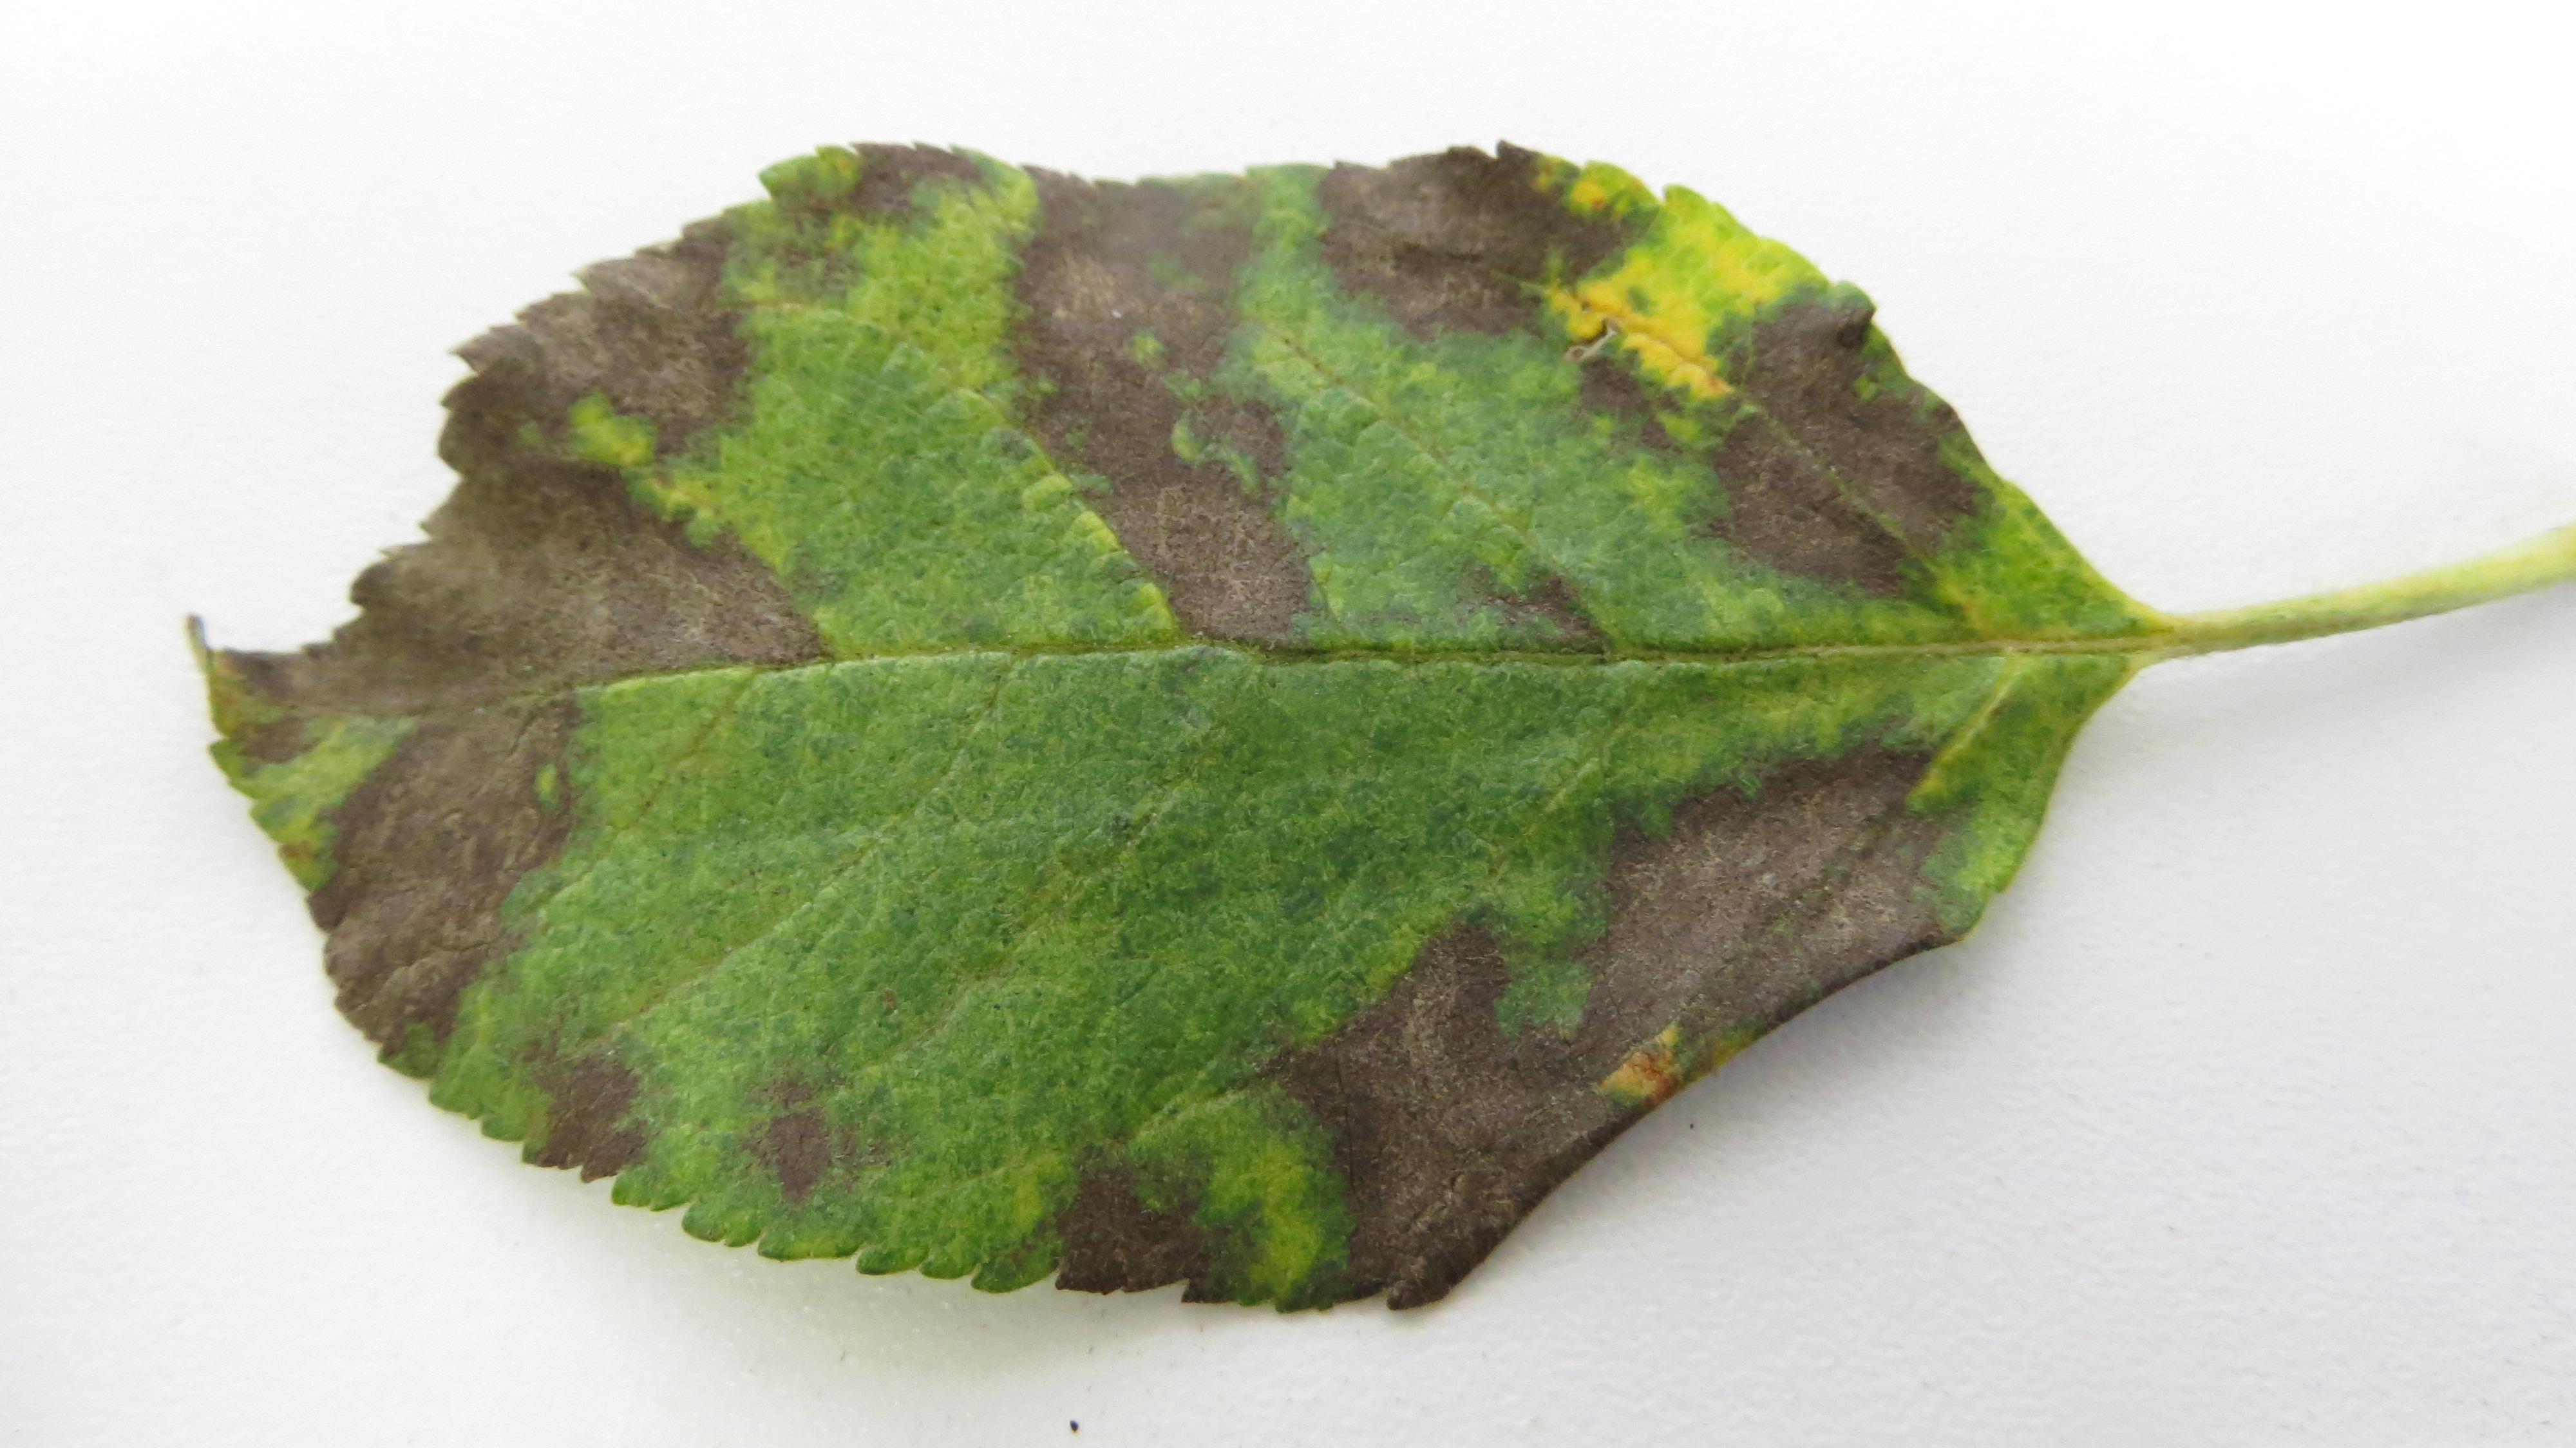sarna: (1010, 156, 1316, 653), (1573, 728, 1950, 1080), (1276, 913, 1603, 1289), (326, 450, 810, 694), (320, 687, 593, 1074), (1693, 273, 1985, 609), (1315, 138, 1647, 352), (464, 235, 763, 467), (732, 131, 973, 294), (1026, 1129, 1237, 1310), (1461, 545, 1649, 699), (738, 1051, 883, 1220), (1548, 331, 1675, 451)
